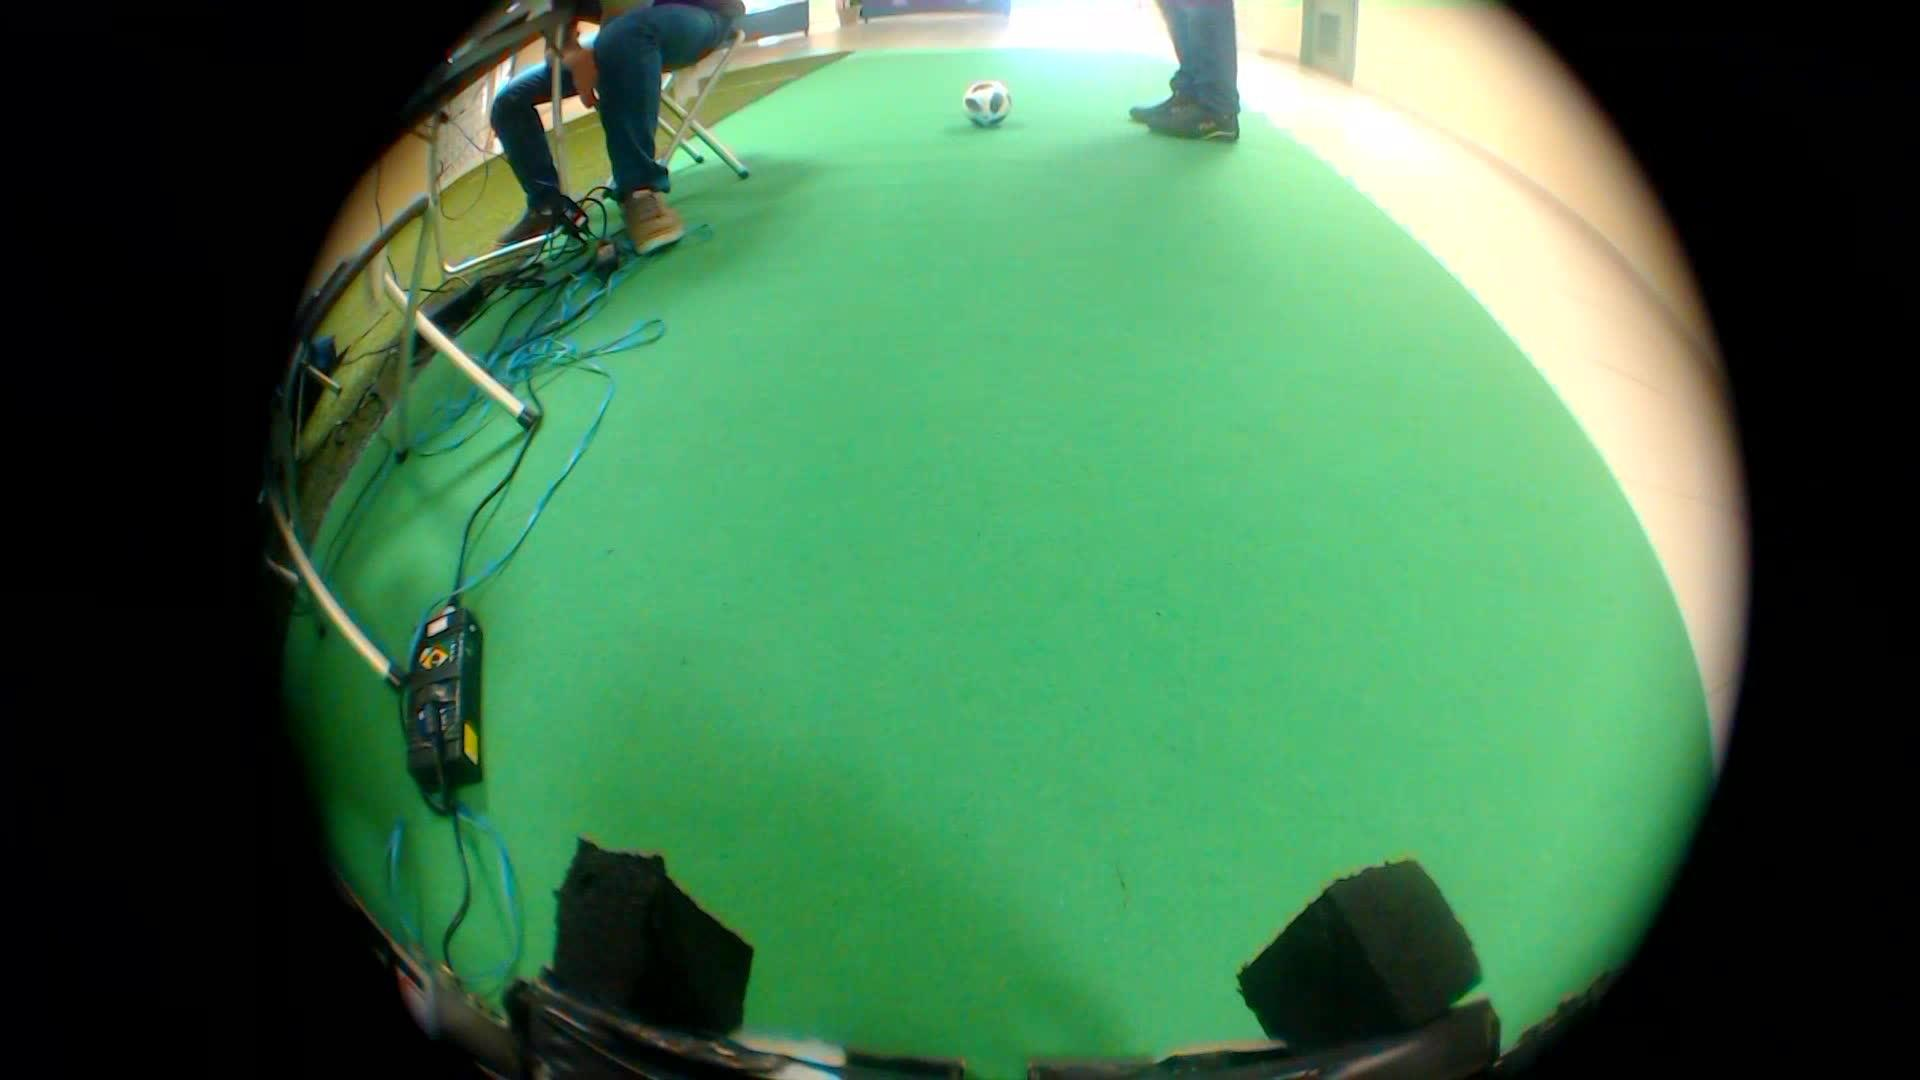ball: (947, 63, 1031, 140)
